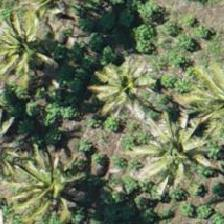coconut_tree: (84, 38, 174, 128), (134, 110, 223, 200), (5, 137, 95, 223), (0, 0, 75, 90), (175, 49, 223, 139)
